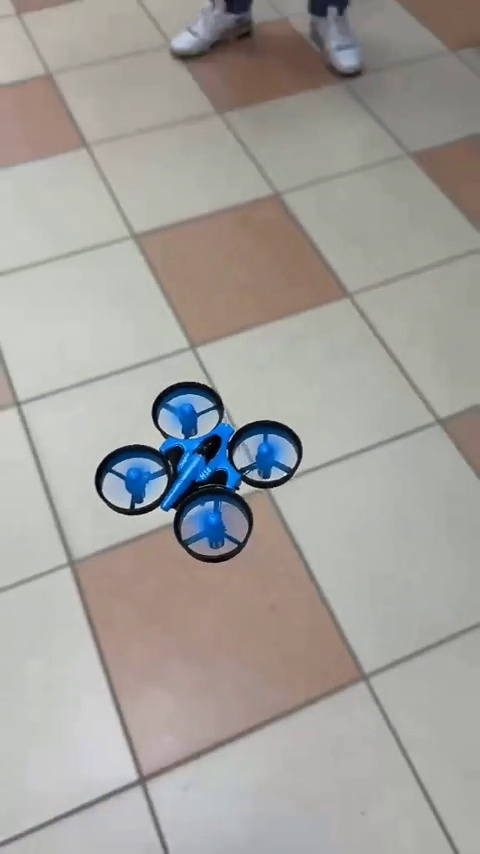drone: (92, 381, 304, 572)
